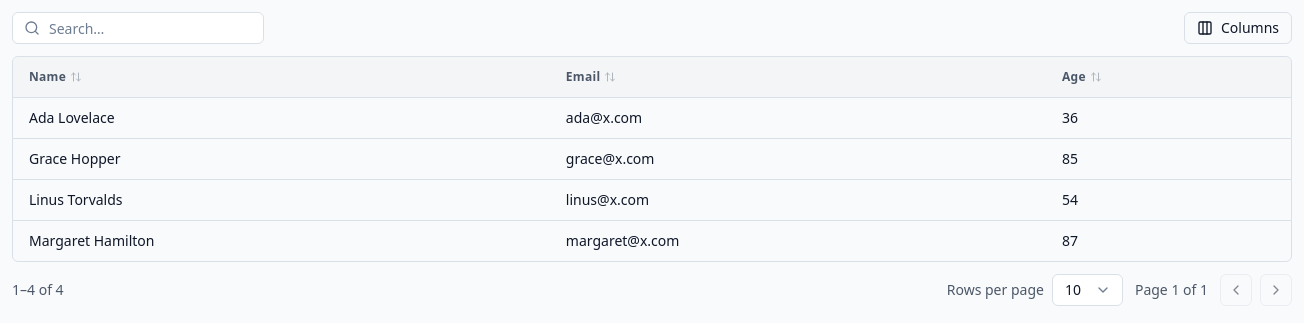
Scenario: DataTable › global search filters rows
Type "Grace" into the field labelled "Search".
click(138, 28); type("Grace")  # box x1=12 y1=12 x2=264 y2=44
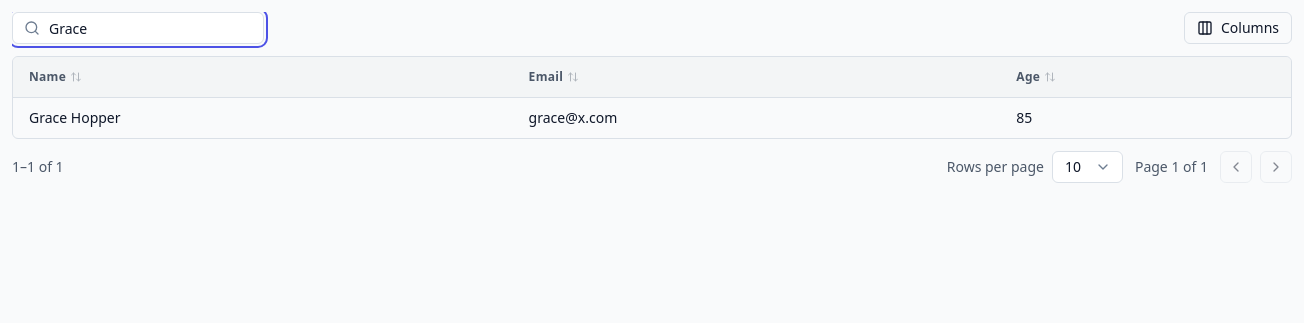
expect the text "Grace Hopper" is shown: met, box x1=13 y1=98 x2=513 y2=138
expect the text "Ada Lovelace" is gone: met
